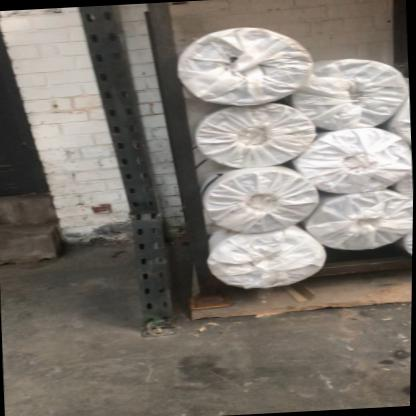vertical_damage: (114, 176, 173, 245)
